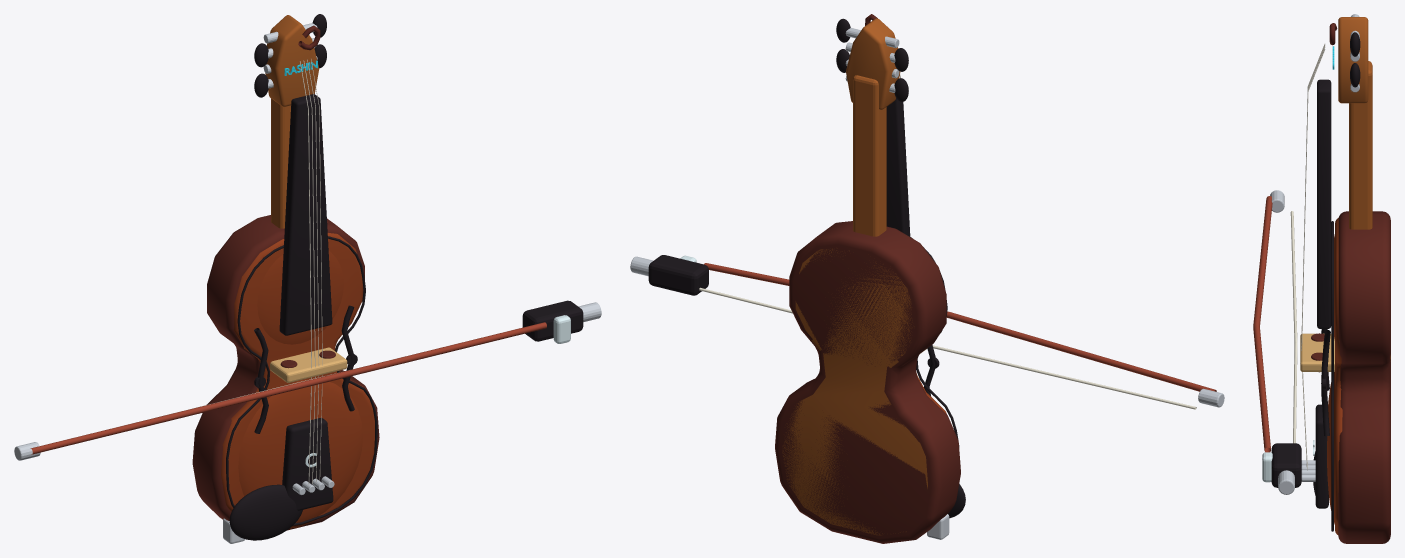
Rendered from rashin-cremona-hero.glb.
3 renders of one model, left to right at view 1: azimuth 30°, elevation 25°; view 2: azimuth 150°, elevation 25°; view 3: azimuth 270°, elevation 25°, orthographic.
Parts seen in each view (by area): view 1: ebony_fingerboard, cremona_dark_edge, cremona_arch_top, lower_plate_arch, pernambuco_bow_stick, ebony_tailpiece, rashin_scroll_head, chin_rest, upper_plate_arch, maple_neck, cremona_purfling, carved_bridge (+1 smaller); view 2: cremona_dark_edge, cremona_flame_back, maple_neck, rashin_scroll_head, ebony_fingerboard, pernambuco_bow_stick, bow_frog, concert_bow_hair; view 3: cremona_dark_edge, ebony_fingerboard, maple_neck, rashin_scroll_head, pernambuco_bow_stick, cremona_arch_top, ebony_tailpiece, bow_frog, cremona_purfling, carved_bridge, concert_bow_hair, f_hole_right (+7 smaller).
Boxes of the visible parts, x1,y1,x2,y2 form: ebony_fingerboard: [279, 94, 332, 335]; cremona_dark_edge: [192, 215, 379, 530]; cremona_arch_top: [221, 233, 374, 519]; lower_plate_arch: [238, 378, 362, 528]; pernambuco_bow_stick: [30, 322, 546, 454]; ebony_tailpiece: [282, 418, 333, 510]; rashin_scroll_head: [265, 15, 319, 106]; chin_rest: [229, 484, 302, 540]; upper_plate_arch: [257, 251, 343, 344]; maple_neck: [271, 98, 290, 228]; cremona_purfling: [226, 236, 377, 525]; carved_bridge: [270, 347, 347, 382]; cremona_dark_edge: [775, 221, 960, 543]; cremona_flame_back: [782, 248, 927, 535]; maple_neck: [853, 75, 886, 236]; rashin_scroll_head: [846, 18, 900, 109]; ebony_fingerboard: [886, 98, 910, 236]; pernambuco_bow_stick: [704, 263, 1216, 391]; bow_frog: [648, 255, 708, 295]; concert_bow_hair: [699, 287, 1196, 409]; cremona_dark_edge: [1338, 211, 1390, 543]; ebony_fingerboard: [1317, 79, 1331, 328]; maple_neck: [1349, 61, 1372, 229]; rashin_scroll_head: [1338, 17, 1368, 103]; pernambuco_bow_stick: [1253, 196, 1272, 452]; cremona_arch_top: [1335, 218, 1342, 534]; ebony_tailpiece: [1315, 404, 1328, 508]; bow_frog: [1271, 443, 1301, 487]; cremona_purfling: [1331, 221, 1333, 531]; carved_bridge: [1300, 333, 1334, 371]; concert_bow_hair: [1290, 211, 1297, 443]; f_hole_right: [1321, 330, 1330, 436].
Bounding box in the file's own units: 0.7275 × 0.6004 × 0.1466.
